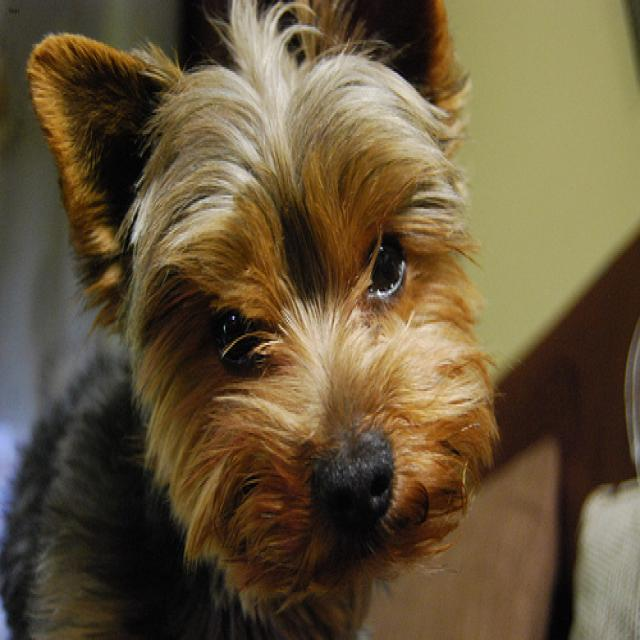dog-yorkshire_terrier: (1, 2, 500, 636)
